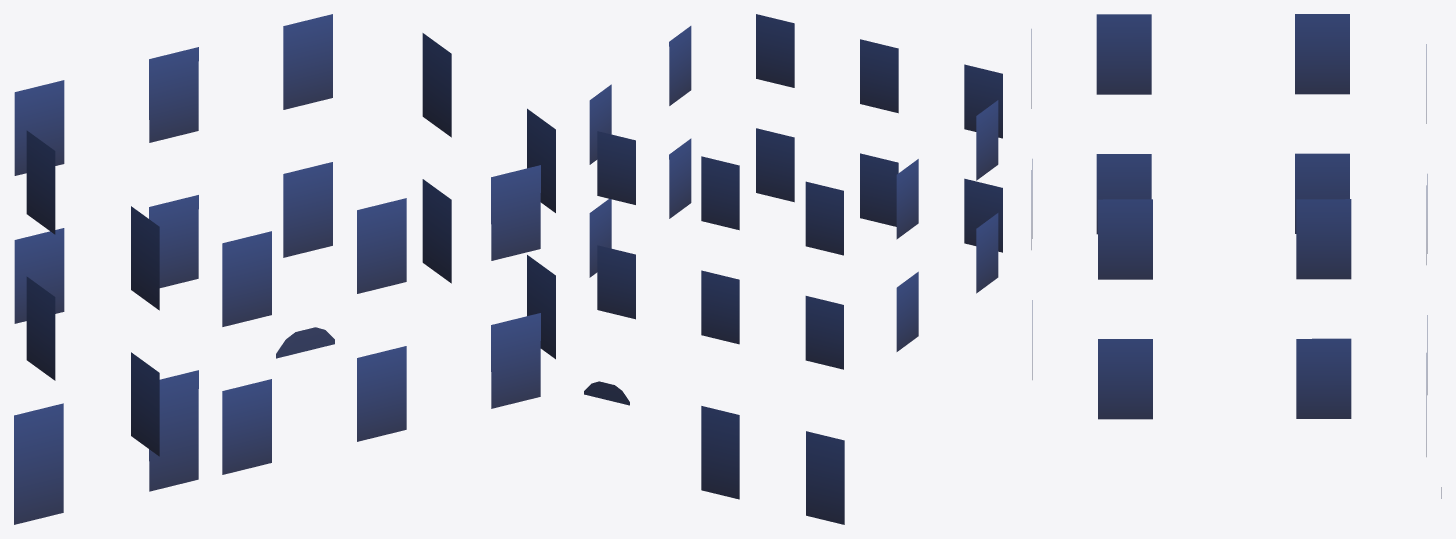
File: windowRefl.120.fbx
3 renders of one model, left to right at view 1: azimuth 30°, elevation 25°; view 2: azimuth 150°, elevation 25°; view 3: azimuth 270°, elevation 25°, orthographic. The views are drawn at different scales.
Visible parts, largest first — view 1: windowRefl.120; view 2: windowRefl.120; view 3: windowRefl.120.
Part boxes in pixels (x1,y1,x2,y2): windowRefl.120: (14,14,555,524); windowRefl.120: (584,14,1002,524); windowRefl.120: (1031,14,1441,498).
Bounding box in the file's own units: 914 × 977 × 1015.
